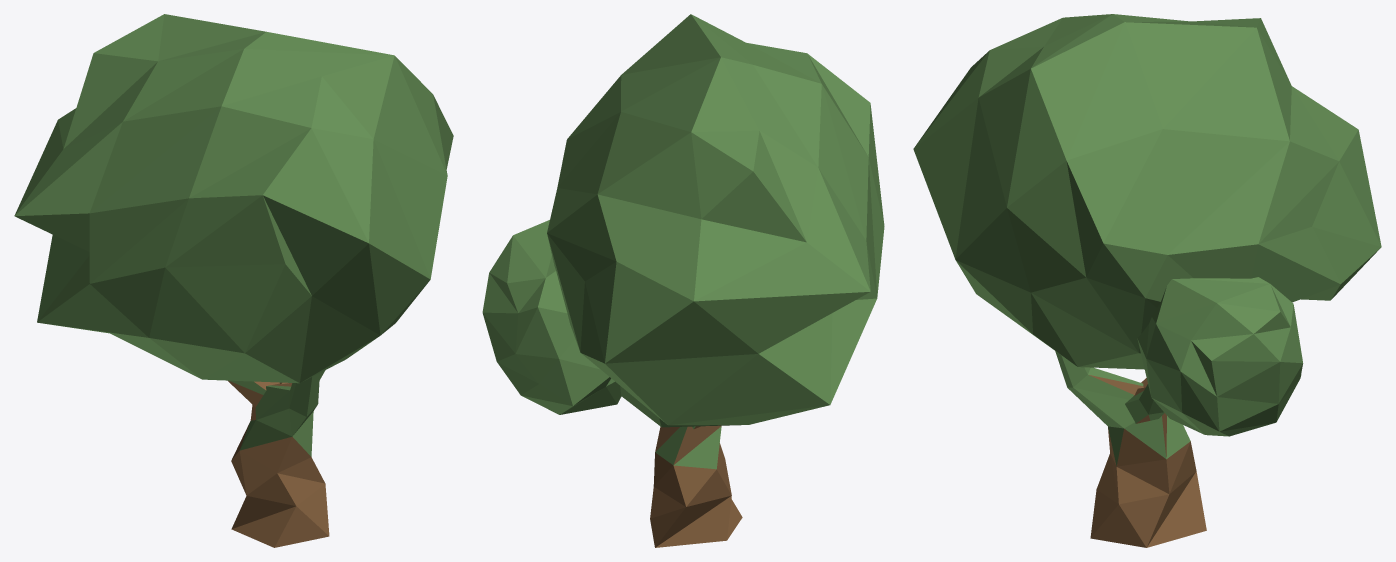
File: tree3d-134.glb
3 renders of one model, left to right at view 1: azimuth 30°, elevation 25°; view 2: azimuth 150°, elevation 25°; view 3: azimuth 270°, elevation 25°, orthographic. The views are drawn at different scales.
Parts seen in each view (by area): view 1: tree3d-134; view 2: tree3d-134; view 3: tree3d-134.
Boxes of the visible parts, x1,y1,x2,y2 form: tree3d-134: [14, 14, 453, 547]; tree3d-134: [482, 14, 884, 547]; tree3d-134: [913, 14, 1381, 547].
Bounding box in the file's own units: 0.8449 × 1 × 0.8581.
